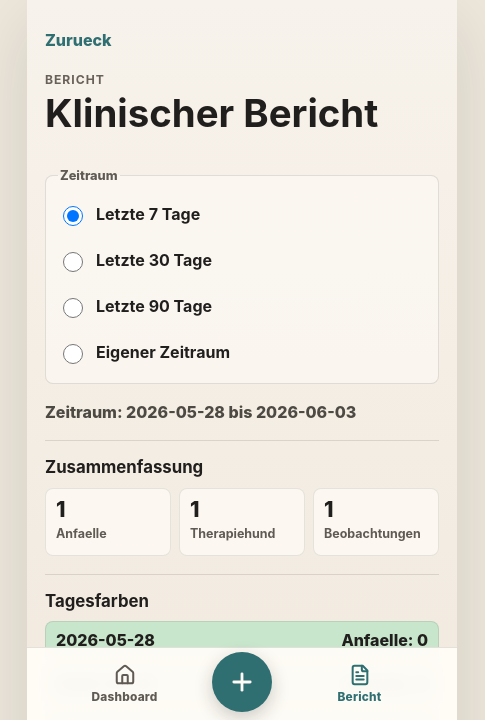
Test: ReportsScreen › updates the report when selecting a different period
The image size is (485, 720).
Click the radio button labelled "Letzte 30 Tage" at [73, 262], box [63, 252, 83, 272]
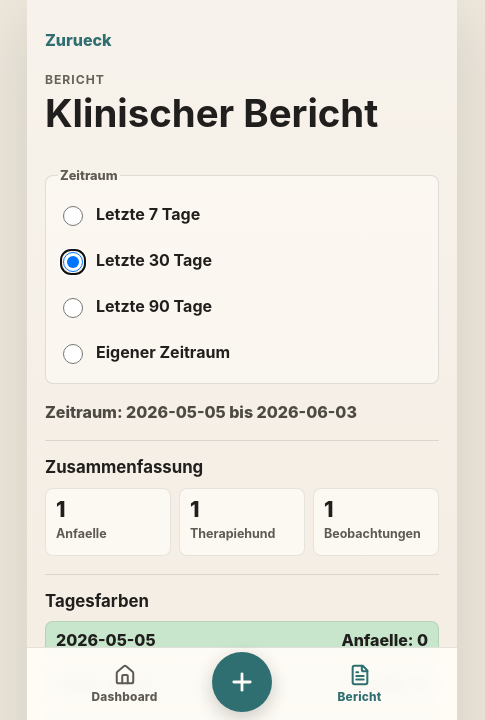
Expected: the text "Zeitraum: 2026-05-05 bis 2026-06-03" is shown, [45, 402, 357, 422]
